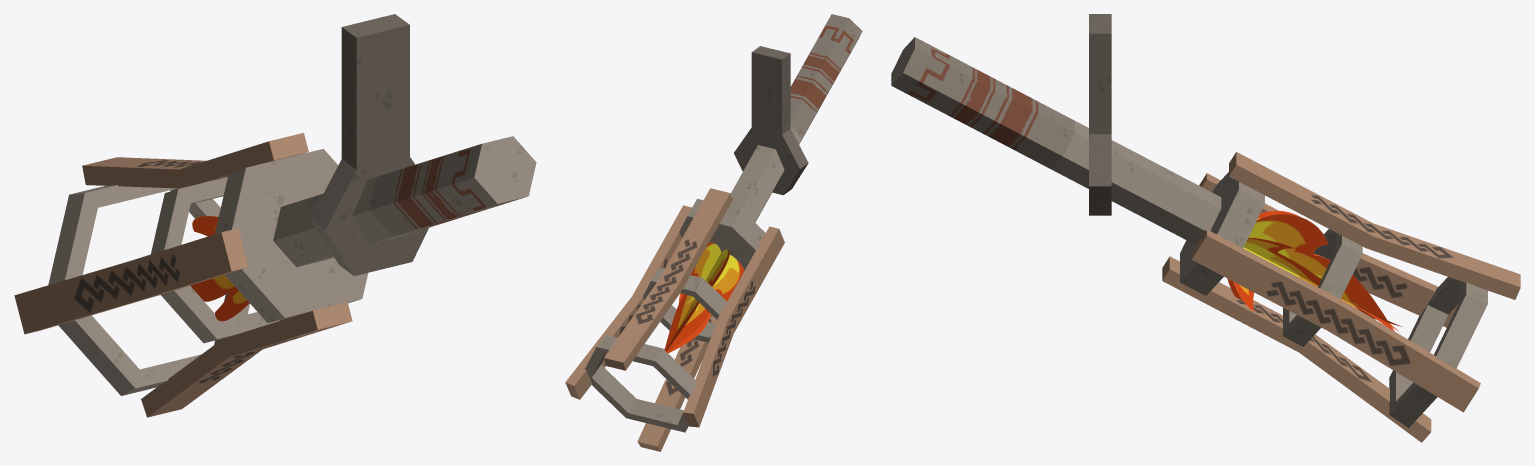
The model's file is SM_Prop_Dwarf_Torch_01.fbx.
3 renders of one model, left to right at view 1: azimuth 30°, elevation 25°; view 2: azimuth 150°, elevation 25°; view 3: azimuth 270°, elevation 25°, orthographic. The views are drawn at different scales.
Visible parts, largest first — view 1: SM_Prop_Dwarf_Torch_01; view 2: SM_Prop_Dwarf_Torch_01; view 3: SM_Prop_Dwarf_Torch_01.
Boxes of the visible parts, bbox=[...] form: SM_Prop_Dwarf_Torch_01: bbox=[14, 14, 536, 417]; SM_Prop_Dwarf_Torch_01: bbox=[565, 14, 862, 451]; SM_Prop_Dwarf_Torch_01: bbox=[891, 14, 1520, 442].
Size of the model in its own units: 32.21 by 57.62 by 78.45.
